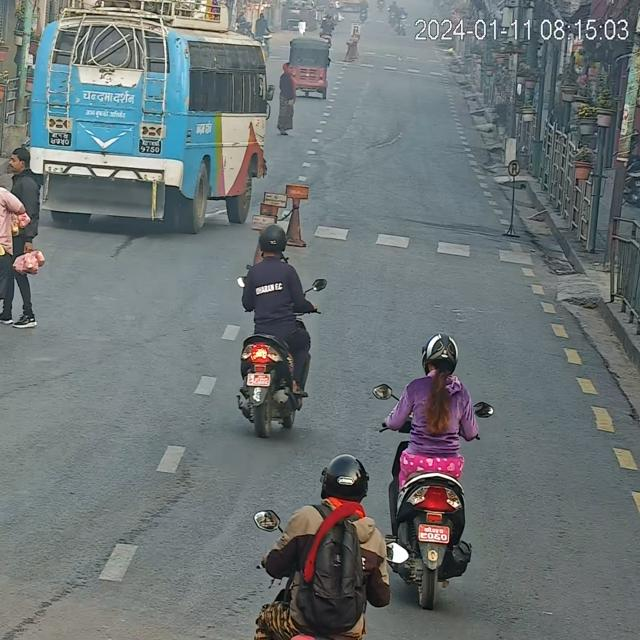license_plate: (215, 348, 311, 418), (401, 507, 472, 555), (38, 119, 92, 168), (127, 120, 179, 169)
